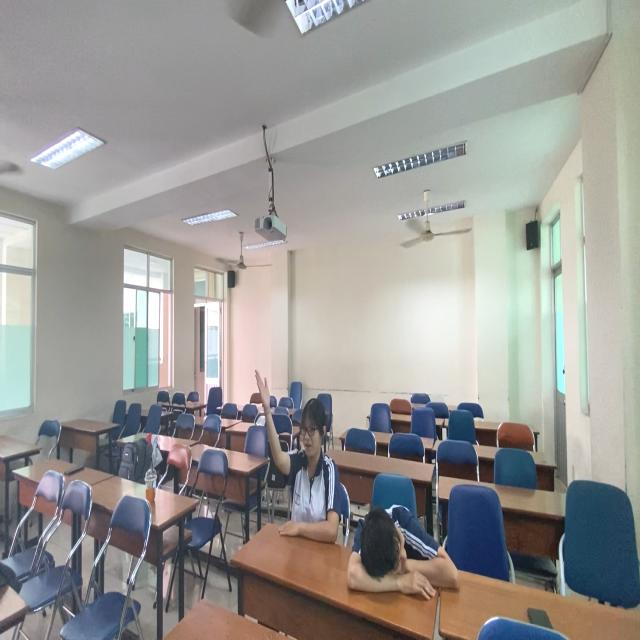raise_hand: (253, 363, 341, 546)
sleep: (347, 507, 465, 597)
